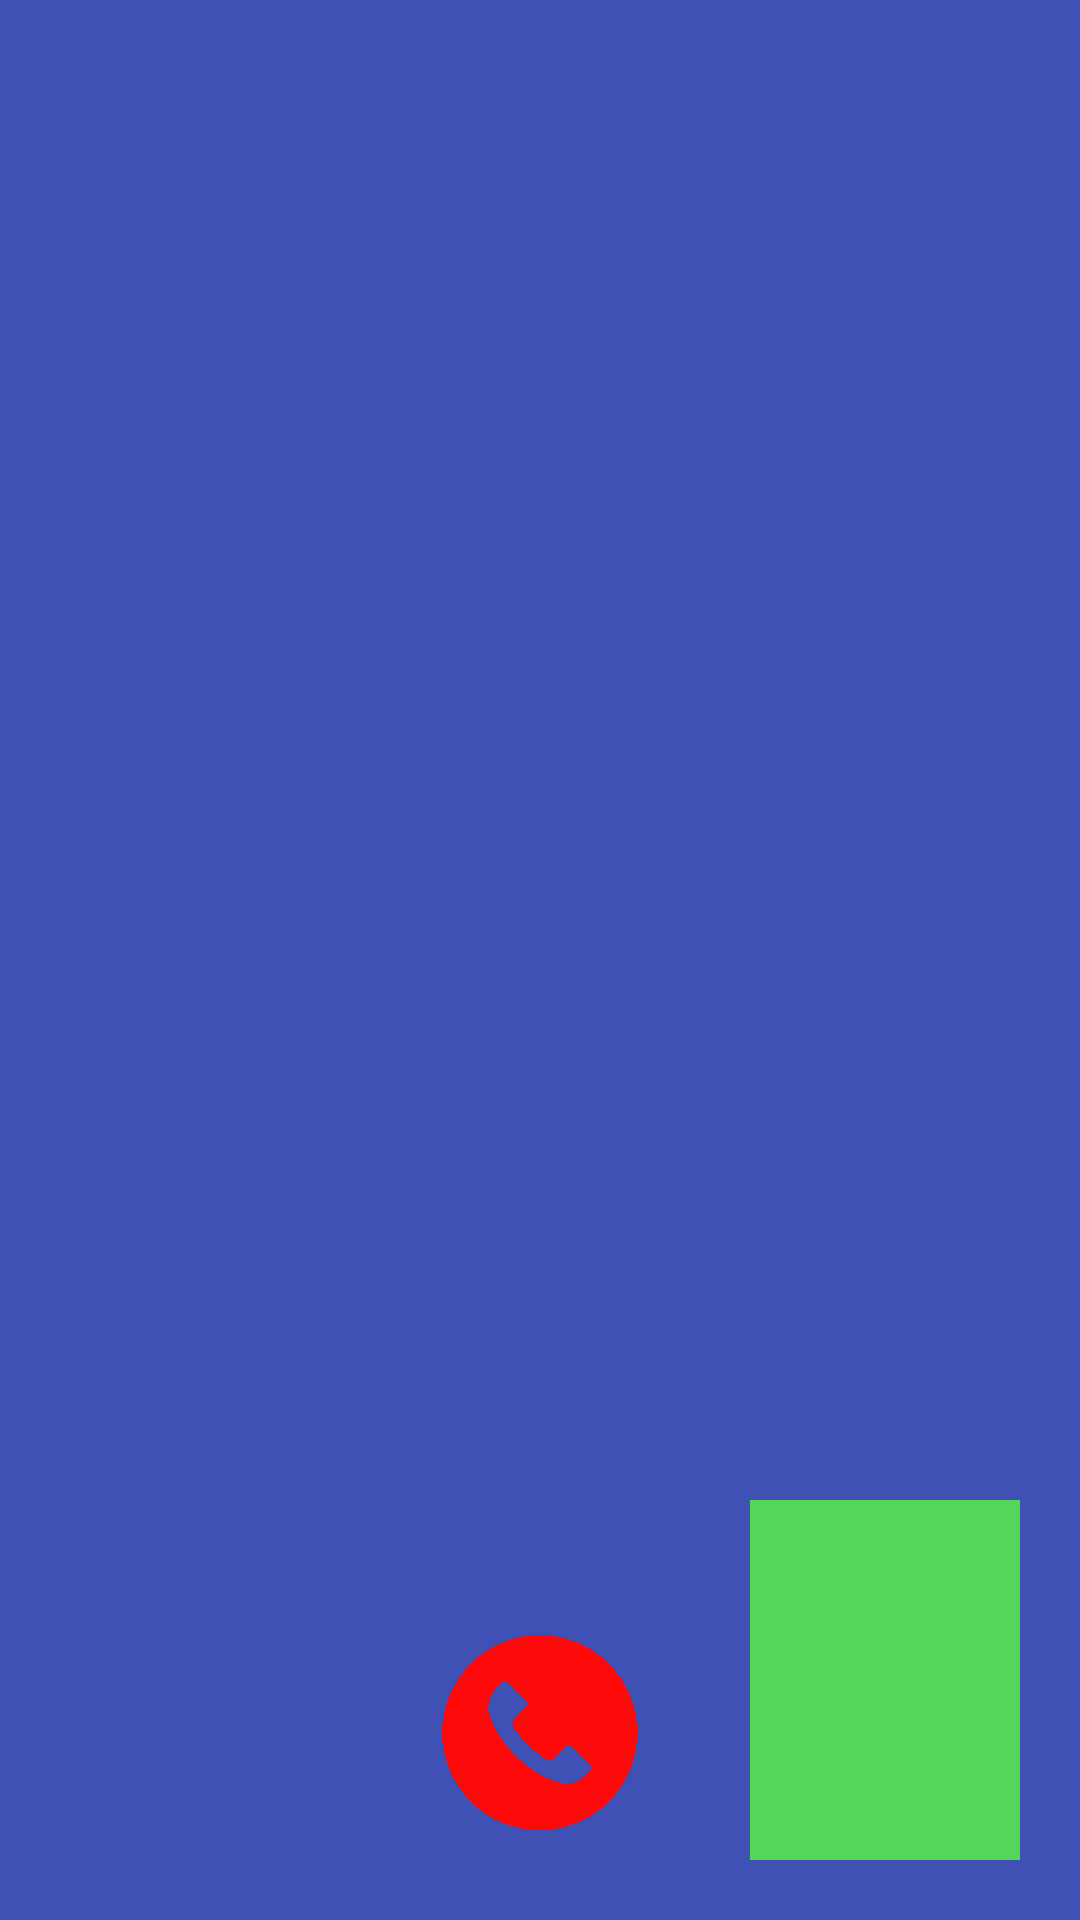

Screen size 1080px x 1920px. Icon name, then its box in pixels as (x1, y1, x2, y2):
reject: (442, 1635, 637, 1830)
